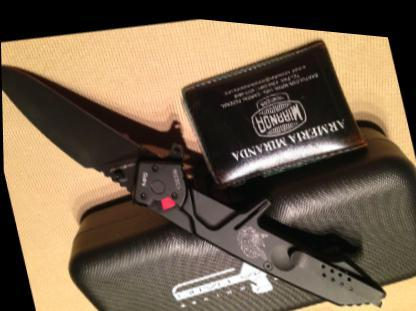knife: (0, 27, 174, 227)
